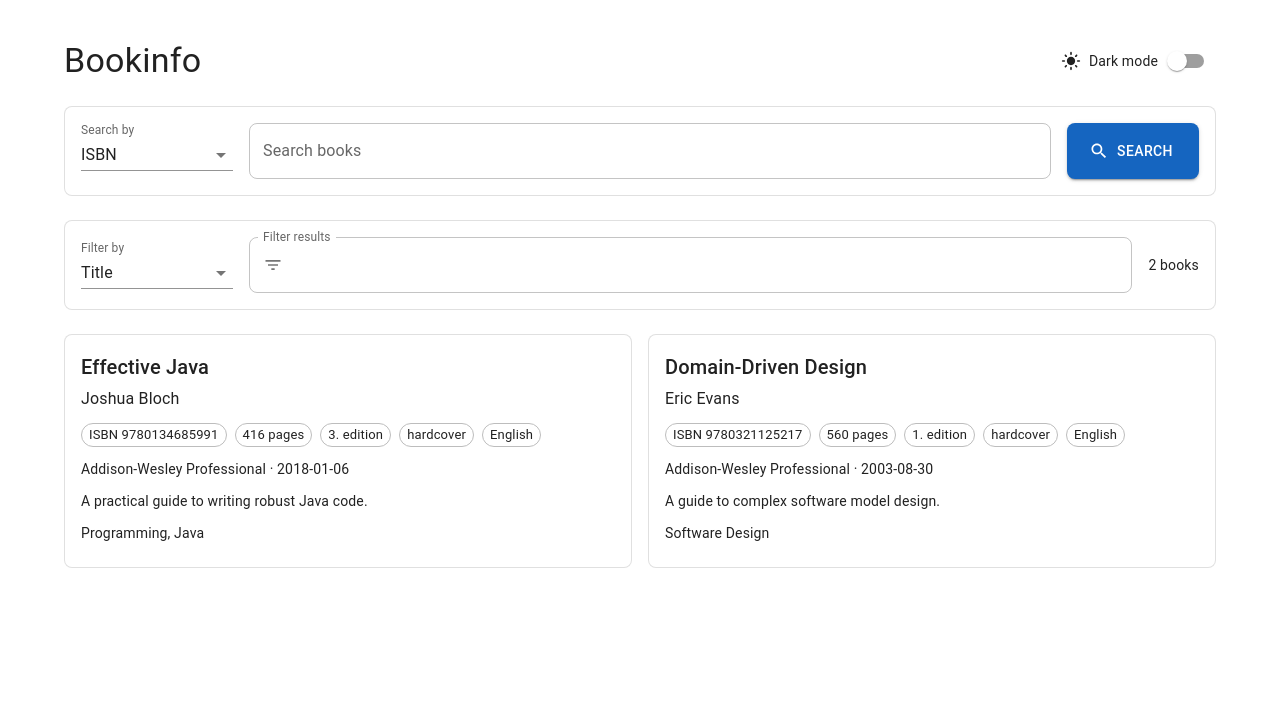
Test: App › loads books and filters displayed results
This screenshot has width=1280, height=720.
Expected: the heading "Effective Java" is shown, [81,355,209,379]
Expected: the heading "Domain-Driven Design" is shown, [665,355,867,379]
Select "Author" in the dropdown labelled "Filter by": (157, 273) [81,257,233,289]
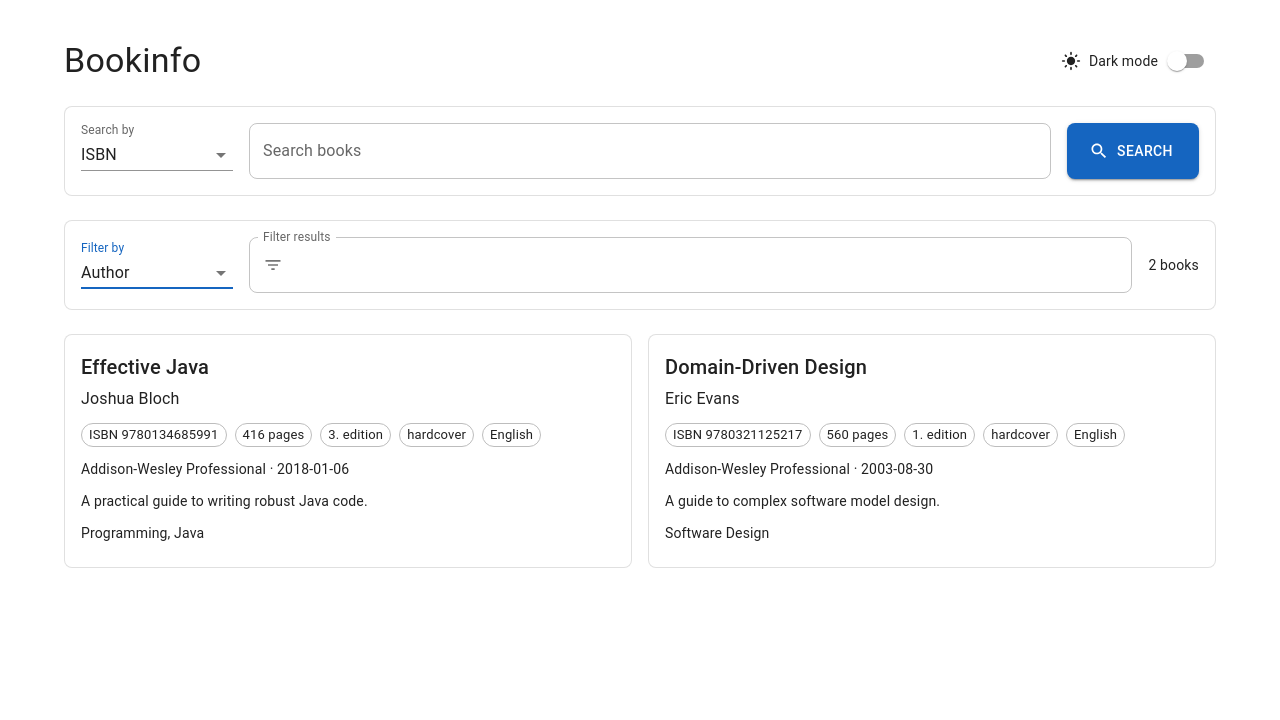
In the field labelled "Filter results": (712, 265) [291,237,1132,293], type "Bloch"
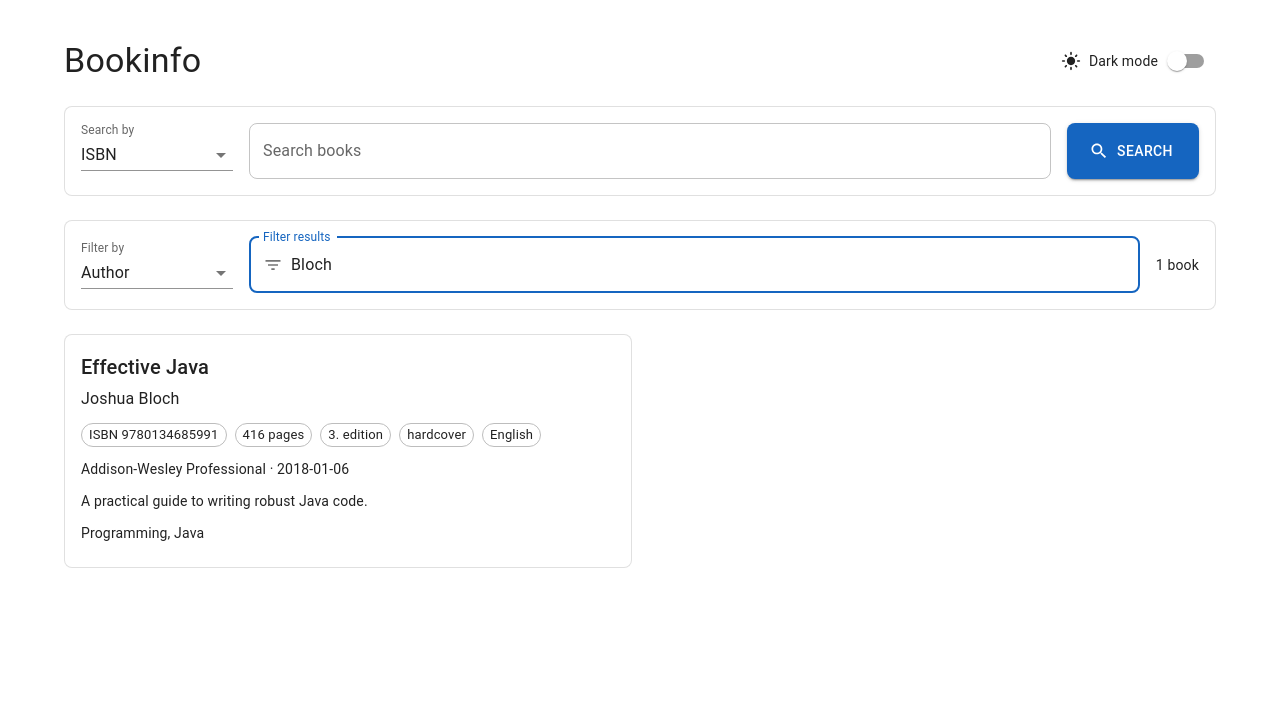
Expected: the heading "Effective Java" is shown, [81,355,209,379]
Expected: the heading "Domain-Driven Design" is gone
Expected: the text "1 book" is shown, [1156,255,1199,275]
